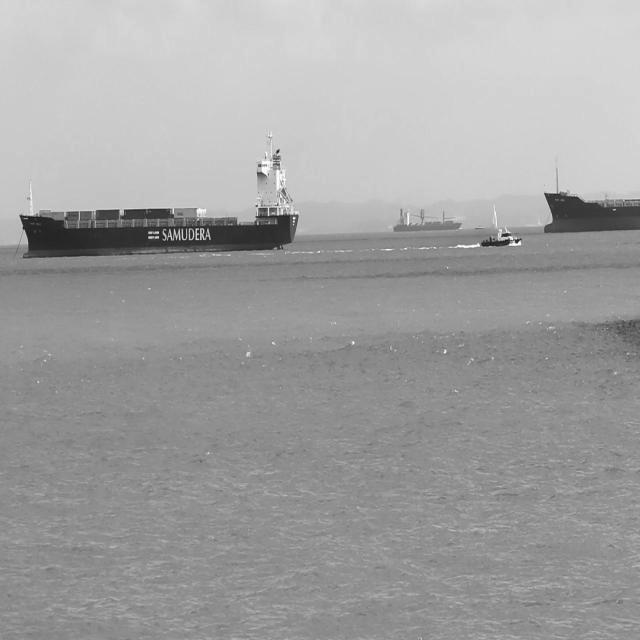ship: (18, 129, 300, 259), (544, 158, 640, 234), (392, 206, 463, 233), (480, 226, 522, 248), (491, 204, 499, 230), (475, 223, 485, 230)
